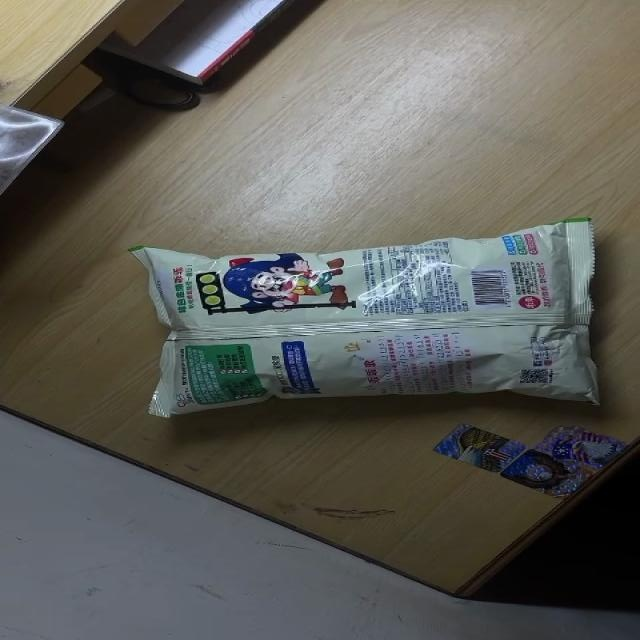Good-Luck: (123, 217, 605, 419)
